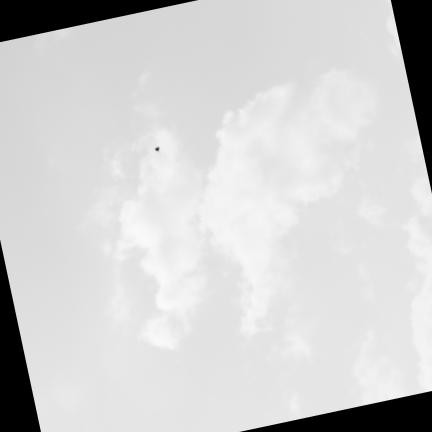Shahed: (155, 146, 158, 150)
